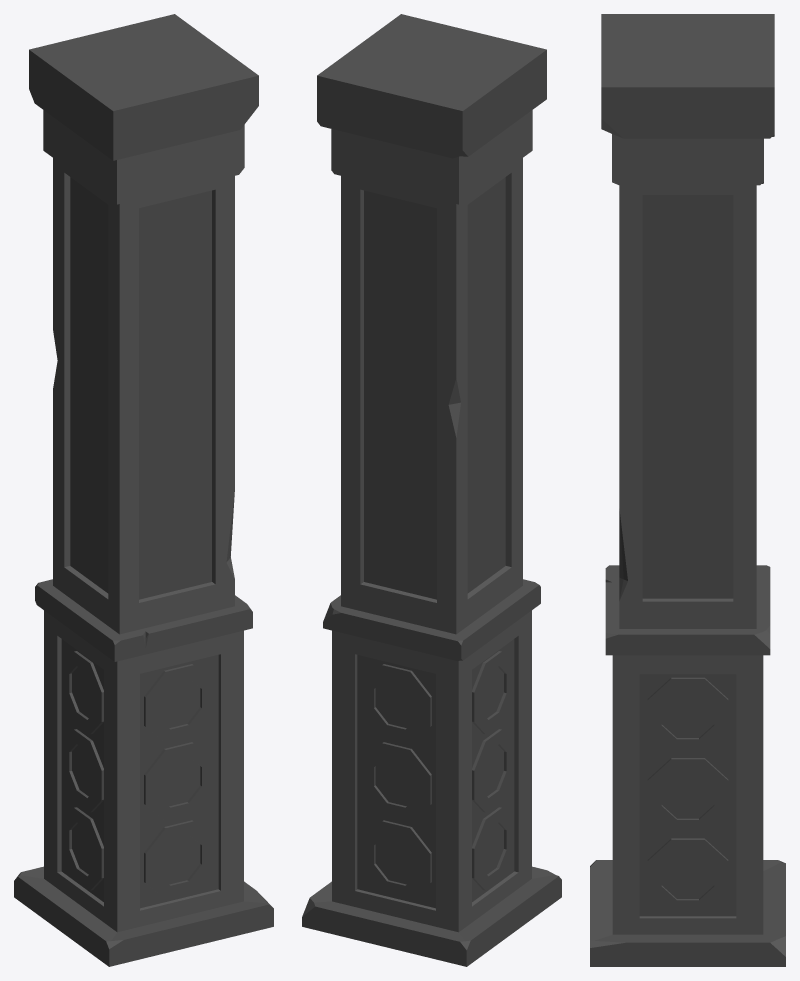
The model's file is CastlePart_02.glb.
3 views of the same model, side by side, from view 1: azimuth 30°, elevation 25°; view 2: azimuth 150°, elevation 25°; view 3: azimuth 270°, elevation 25° (orthographic). The views are drawn at different scales.
Parts seen in each view (by area): view 1: CastlePart_02_LOD0; view 2: CastlePart_02_LOD0; view 3: CastlePart_02_LOD0.
Boxes of the visible parts, left/top/right/bottom form: CastlePart_02_LOD0: left=14, top=14, right=273, bottom=966; CastlePart_02_LOD0: left=302, top=14, right=561, bottom=966; CastlePart_02_LOD0: left=590, top=14, right=785, bottom=966.
Size of what is drawn, in the model's own units: 0.9763 by 4.81 by 0.9763.
1 material, 1 textured.
